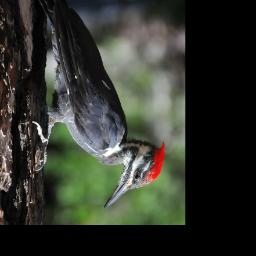Woodpecker: (32, 0, 166, 210)
